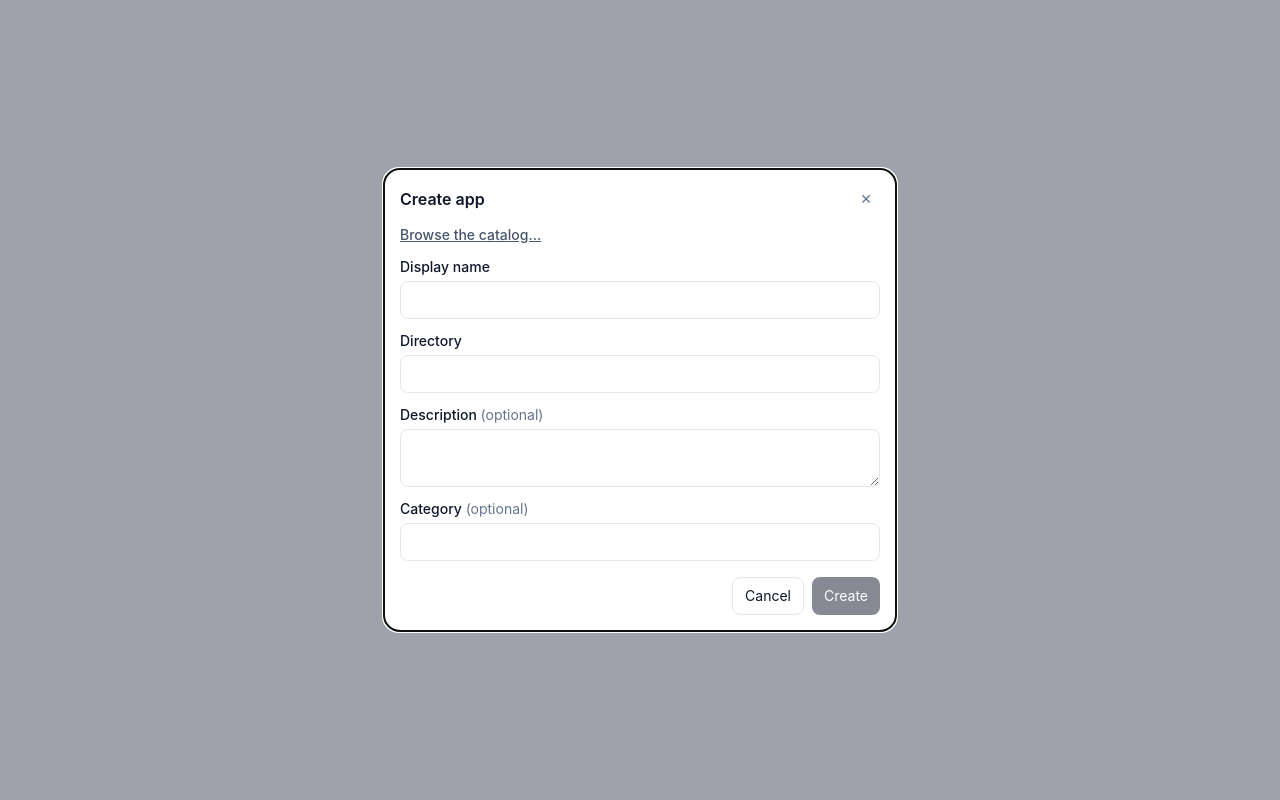
Test: CreateAppDialog › refuses to submit a directory with a path separator
This screenshot has width=1280, height=800.
Type "X" into the field labelled "Display name" at (640, 300), box [400,281,880,319]
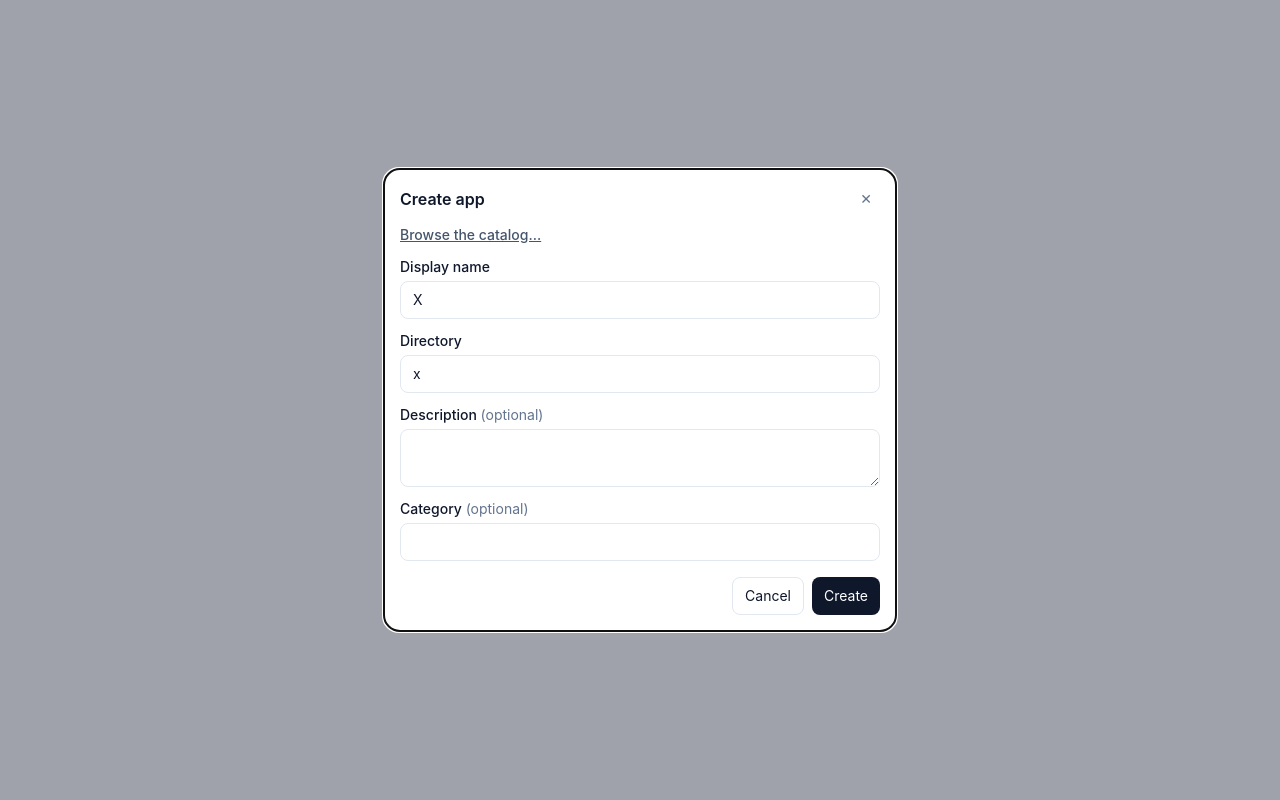
Replace the text in the field labelled "Directory" with "../etc" at (640, 374), box [400,355,880,393]
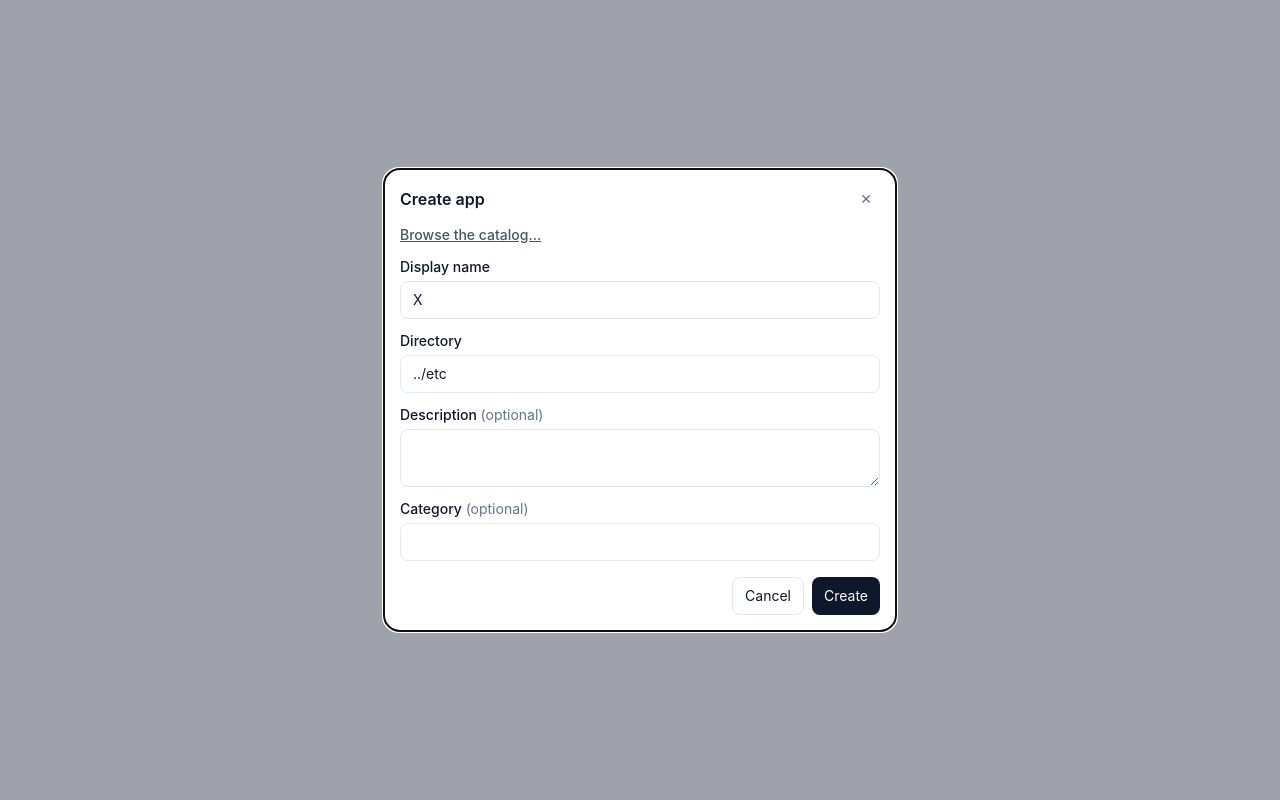
Click the button "Create" at (846, 596), box [812,577,880,615]
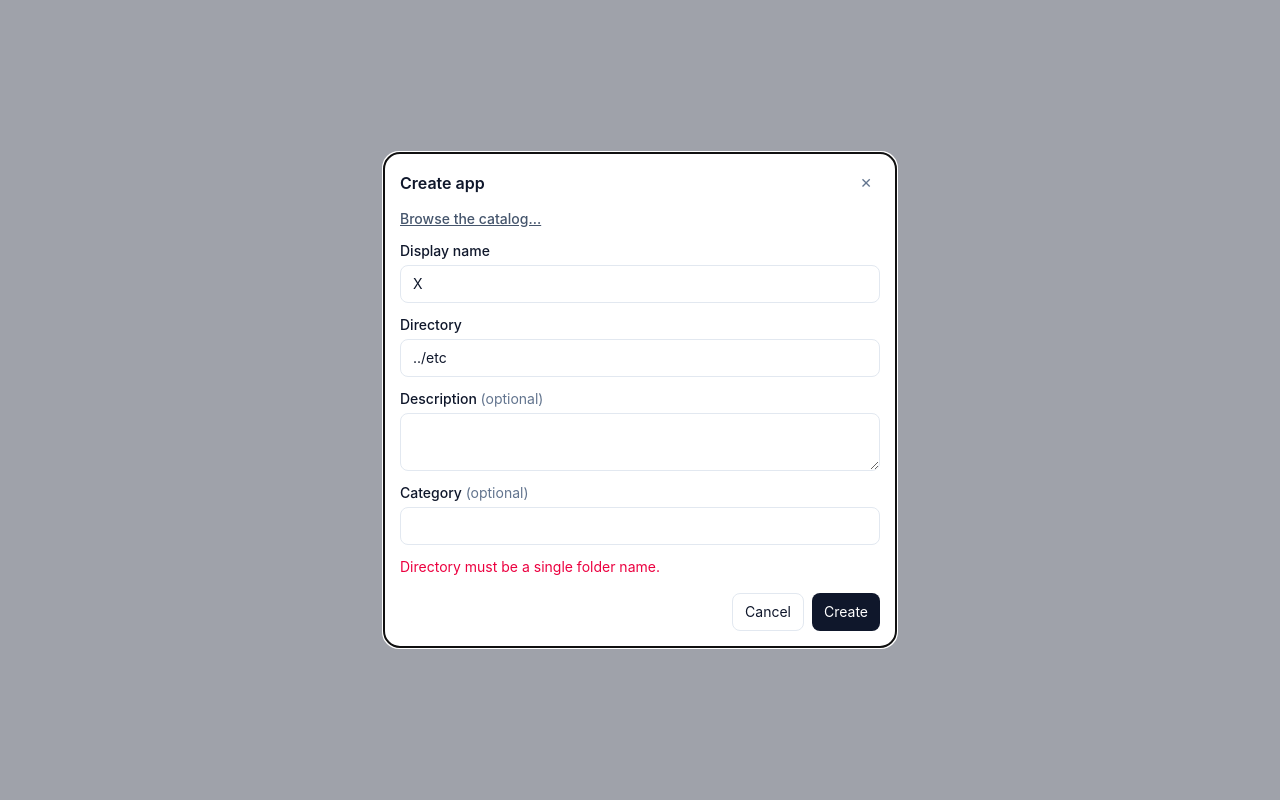
Now the text "Directory must be a single folder name." is shown, box [400,558,660,575]
